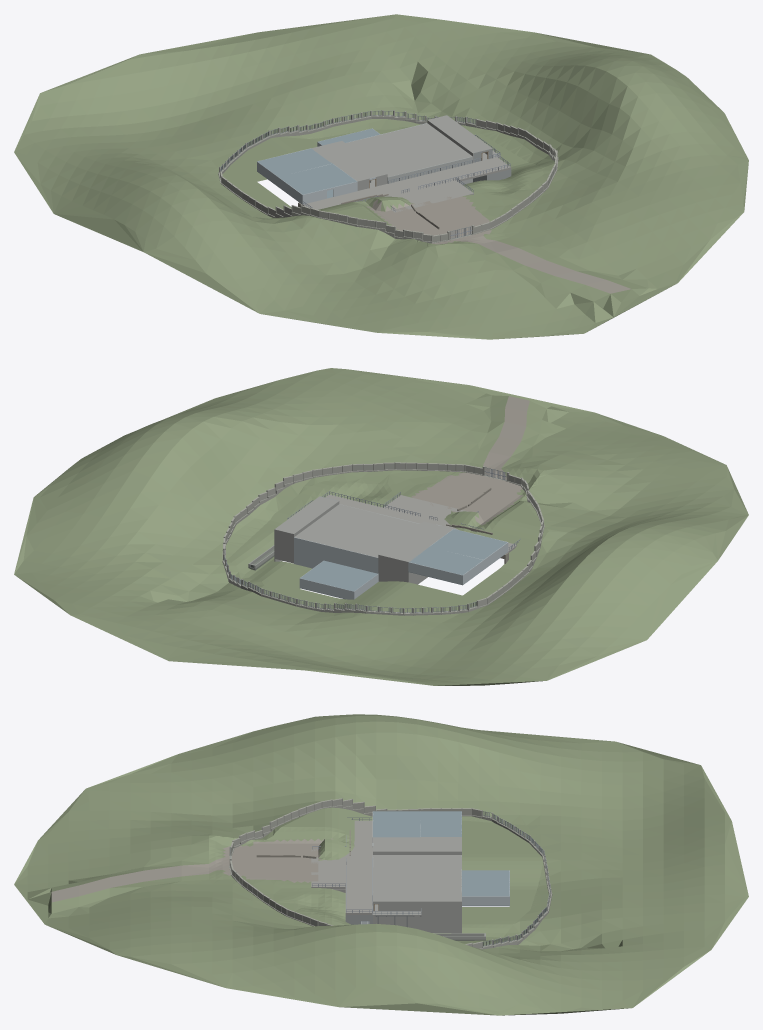
Rendered from bounded-dam.glb.
3 renders of one model, top to bottom at view 1: azimuth 30°, elevation 25°; view 2: azimuth 150°, elevation 25°; view 3: azimuth 270°, elevation 25°, orthographic. The views are drawn at different scales.
Visible parts, largest first — view 1: Blackwater joined valley terrain, Blackwater saved ground with road surface, WLD-09 turbine enclosed roof region0, WLD-09 complete structural crest deck region0, WLD-09 west hall enclosed roof region0, Ceiling cap control, Ceiling cap office, Blackwater tied boundary piers, WLD-09 complete bridge arrival forecourt region0, WLD-09 east hall enclosed roof region0; view 2: Blackwater joined valley terrain, Blackwater saved ground with road surface, WLD-09 turbine enclosed roof region0, WLD-09 west hall enclosed roof region0, Ceiling cap plant, Ceiling cap control, Blackwater tied boundary piers, Flat route shell Wall turbine N.001, Ceiling cap office, WLD-09 complete bridge arrival forecourt region0, WLD-09 east hall enclosed roof region0, WLD-09 complete structural crest deck region0 (+4 smaller); view 3: Blackwater joined valley terrain, Blackwater saved ground with road surface, WLD-09 turbine enclosed roof region0, WLD-09 complete structural crest deck region0, WLD-09 hall E pier0 region0, WLD-09 west hall enclosed roof region0, Ceiling cap control, Ceiling cap plant, Ceiling cap office, WLD-09 east hall enclosed roof region0, WLD-09 complete bridge arrival forecourt region0, Blackwater tied boundary piers.
Part boxes in pixels (x1,y1,x2,y2): Blackwater joined valley terrain: (14,14,748,339); Blackwater saved ground with road surface: (212,127,543,245); WLD-09 turbine enclosed roof region0: (345,123,472,176); WLD-09 complete structural crest deck region0: (302,157,511,209); WLD-09 west hall enclosed roof region0: (312,141,387,182); Ceiling cap control: (278,163,356,194); Ceiling cap office: (257,148,332,176); Blackwater tied boundary piers: (219,110,557,243); WLD-09 complete bridge arrival forecourt region0: (392,180,473,212); WLD-09 east hall enclosed roof region0: (427,115,492,153); Blackwater joined valley terrain: (14,368,748,685); Blackwater saved ground with road surface: (228,462,548,622); WLD-09 turbine enclosed roof region0: (295,504,419,557); WLD-09 west hall enclosed roof region0: (379,521,452,562); Ceiling cap plant: (300,560,377,591); Ceiling cap control: (429,529,506,559); Blackwater tied boundary piers: (222,462,544,615); Flat route shell Wall turbine N.001: (294,537,348,567); Ceiling cap office: (409,547,482,575); WLD-09 complete bridge arrival forecourt region0: (384,495,468,523); WLD-09 east hall enclosed roof region0: (274,497,339,534); WLD-09 complete structural crest deck region0: (325,494,516,552); Blackwater joined valley terrain: (14,714,748,1015); Blackwater saved ground with road surface: (209,807,542,945); WLD-09 turbine enclosed roof region0: (373,855,461,892); WLD-09 complete structural crest deck region0: (345,820,372,914); WLD-09 hall E pier0 region0: (378,901,461,929); WLD-09 west hall enclosed roof region0: (373,837,461,852); Ceiling cap control: (373,811,420,837); Ceiling cap plant: (462,870,509,896); Ceiling cap office: (420,811,461,836); WLD-09 east hall enclosed roof region0: (373,892,461,902); WLD-09 complete bridge arrival forecourt region0: (311,849,345,888); Blackwater tied boundary piers: (230,798,551,947).
Size of the model in its own units: 200 by 25.78 by 215.
Materials: 52 (27 with a texture image).
